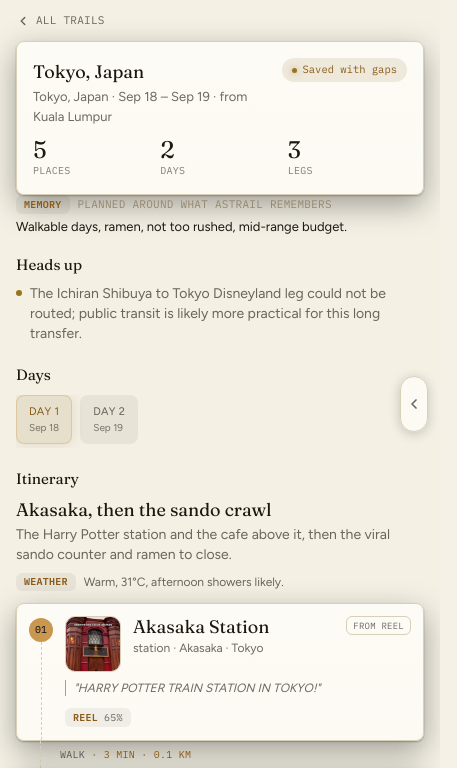
Test: TripWorkspace › switching days swaps the visible places
The image size is (457, 768).
Click the tab "Day 2 Sep 19": click(109, 420) [80,395,138,444]
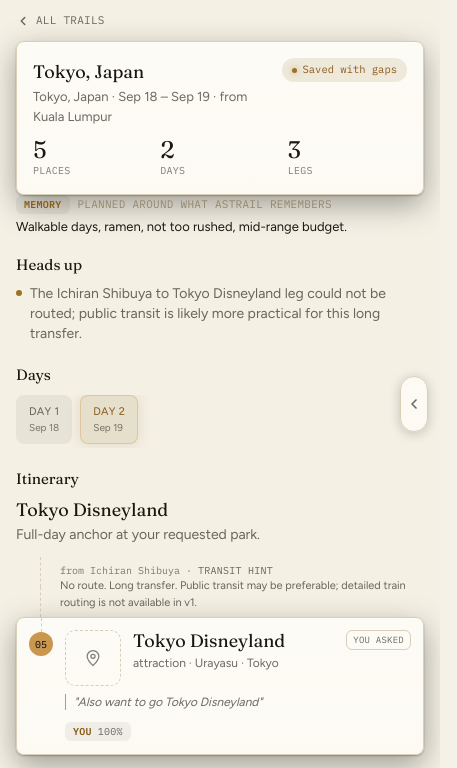
Expected: the 1st heading "Tokyo Disneyland" is shown, [16,498,168,521]
Expected: the button "Akasaka Station" is gone
